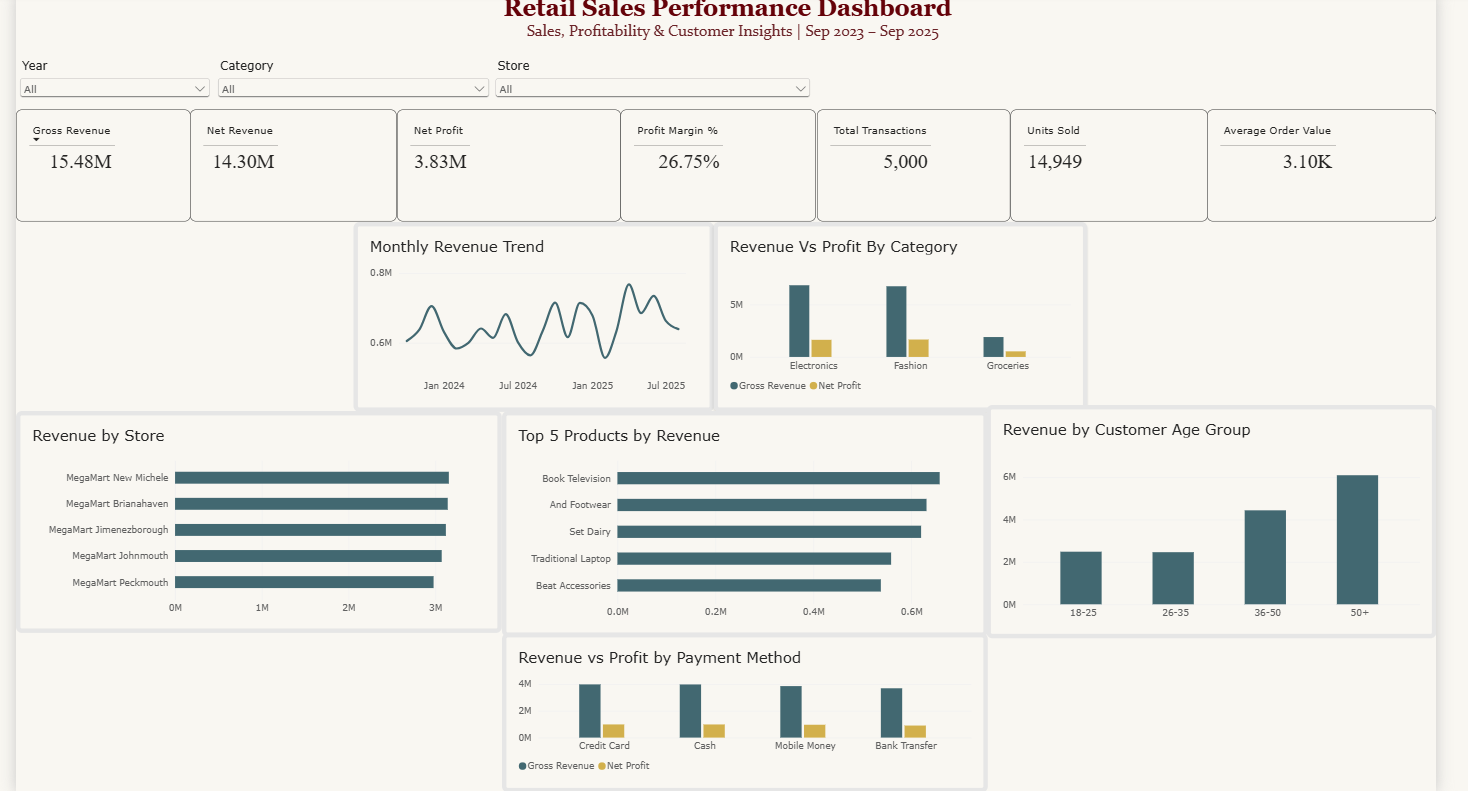

Layout of this report page (visuals, bound fields, positions):
{"tool":"powerbi","page":{"name":"Page 1","canvas":[1920,1080],"ordinal":0},"visuals":[{"type":"tableEx","fields":{"Values":["Transactions.Gross Revenue"]},"box":[0,156.4,235.9,151.3],"z":0},{"type":"tableEx","fields":{"Values":["Transactions.Net Revenue"]},"box":[235.9,156.4,279.5,151.3],"z":1000},{"type":"tableEx","fields":{"Values":["Transactions.Net Profit"]},"box":[515.4,156.4,302.6,151.3],"z":2000},{"type":"tableEx","fields":{"Values":["Transactions.Profit Margin %"]},"box":[817.9,156.4,264.1,151.3],"z":3000},{"type":"tableEx","fields":{"Values":["Transactions.Total Transactions"]},"box":[1082.1,156.4,261.5,151.3],"z":4000},{"type":"tableEx","fields":{"Values":["Transactions.Units Sold"]},"box":[1343.6,156.4,266.7,151.3],"z":5000},{"type":"tableEx","fields":{"Values":["Transactions.Average Order Value"]},"box":[1610.3,156.4,310.3,151.3],"z":6000},{"type":"lineChart","title":"Monthly Revenue Trend","fields":{"Category":["Transactions.Date.Variation.Date Hierarchy.Year","Transactions.Date.Variation.Date Hierarchy.Month"],"Y":["Transactions.Gross Revenue"]},"box":[456.4,307.7,487.2,256.4],"z":7000},{"type":"clusteredColumnChart","title":"Revenue Vs Profit By Category","fields":{"Category":["Products.Category"],"Y":["Transactions.Gross Revenue","Transactions.Net Profit"]},"box":[943.6,307.7,505.1,256.4],"z":8000},{"type":"clusteredBarChart","title":"Revenue by Store","fields":{"Category":["Stores.StoreName"],"Y":["Transactions.Gross Revenue"]},"box":[0,564.1,656.4,300],"z":9000},{"type":"clusteredBarChart","title":"Top 5 Products by Revenue","fields":{"Category":["Products.ProductName"],"Y":["Transactions.Gross Revenue"]},"box":[656.4,564.1,656.4,305.1],"z":10000},{"type":"clusteredColumnChart","title":" Revenue by Customer Age Group","fields":{"Category":["Customers.Age Group"],"Y":["Transactions.Gross Revenue"]},"box":[1312.8,556.4,607.7,315.4],"z":11000},{"type":"clusteredColumnChart","title":" Revenue vs Profit by Payment Method","fields":{"Category":["Transactions.PaymentMethod"],"Y":["Transactions.Gross Revenue","Transactions.Net Profit"]},"box":[656.4,864.1,656.4,215.4],"z":12000},{"type":"textbox","box":[594.9,0,785.7,88.1],"z":13000},{"type":"slicer","fields":{"Values":["Transactions.Year"]},"box":[0,87.2,266.7,135.9],"z":14000},{"type":"slicer","fields":{"Values":["Products.Category"]},"box":[266.7,87.2,376.9,135.9],"z":15000},{"type":"slicer","fields":{"Values":["Stores.StoreName"]},"box":[643.6,87.2,435.9,135.9],"z":16000}]}

Visuals, with their boxes on the page's 1920x1080 design canvas (x1, y1, x2, y2). These are canvas units, not pixel positions in the 1468x791 screenshot, which may show the page scaled, cropped or inside an application window:
tableEx - Transactions.Gross Revenue: [0, 156, 236, 308]
tableEx - Transactions.Net Revenue: [236, 156, 515, 308]
tableEx - Transactions.Net Profit: [515, 156, 818, 308]
tableEx - Transactions.Profit Margin %: [818, 156, 1082, 308]
tableEx - Transactions.Total Transactions: [1082, 156, 1344, 308]
tableEx - Transactions.Units Sold: [1344, 156, 1610, 308]
tableEx - Transactions.Average Order Value: [1610, 156, 1921, 308]
"Monthly Revenue Trend" lineChart: [456, 308, 944, 564]
"Revenue Vs Profit By Category" clusteredColumnChart: [944, 308, 1449, 564]
"Revenue by Store" clusteredBarChart: [0, 564, 656, 864]
"Top 5 Products by Revenue" clusteredBarChart: [656, 564, 1313, 869]
" Revenue by Customer Age Group" clusteredColumnChart: [1313, 556, 1920, 872]
" Revenue vs Profit by Payment Method" clusteredColumnChart: [656, 864, 1313, 1080]
textbox: [595, 0, 1381, 88]
slicer - Transactions.Year: [0, 87, 267, 223]
slicer - Products.Category: [267, 87, 644, 223]
slicer - Stores.StoreName: [644, 87, 1080, 223]
